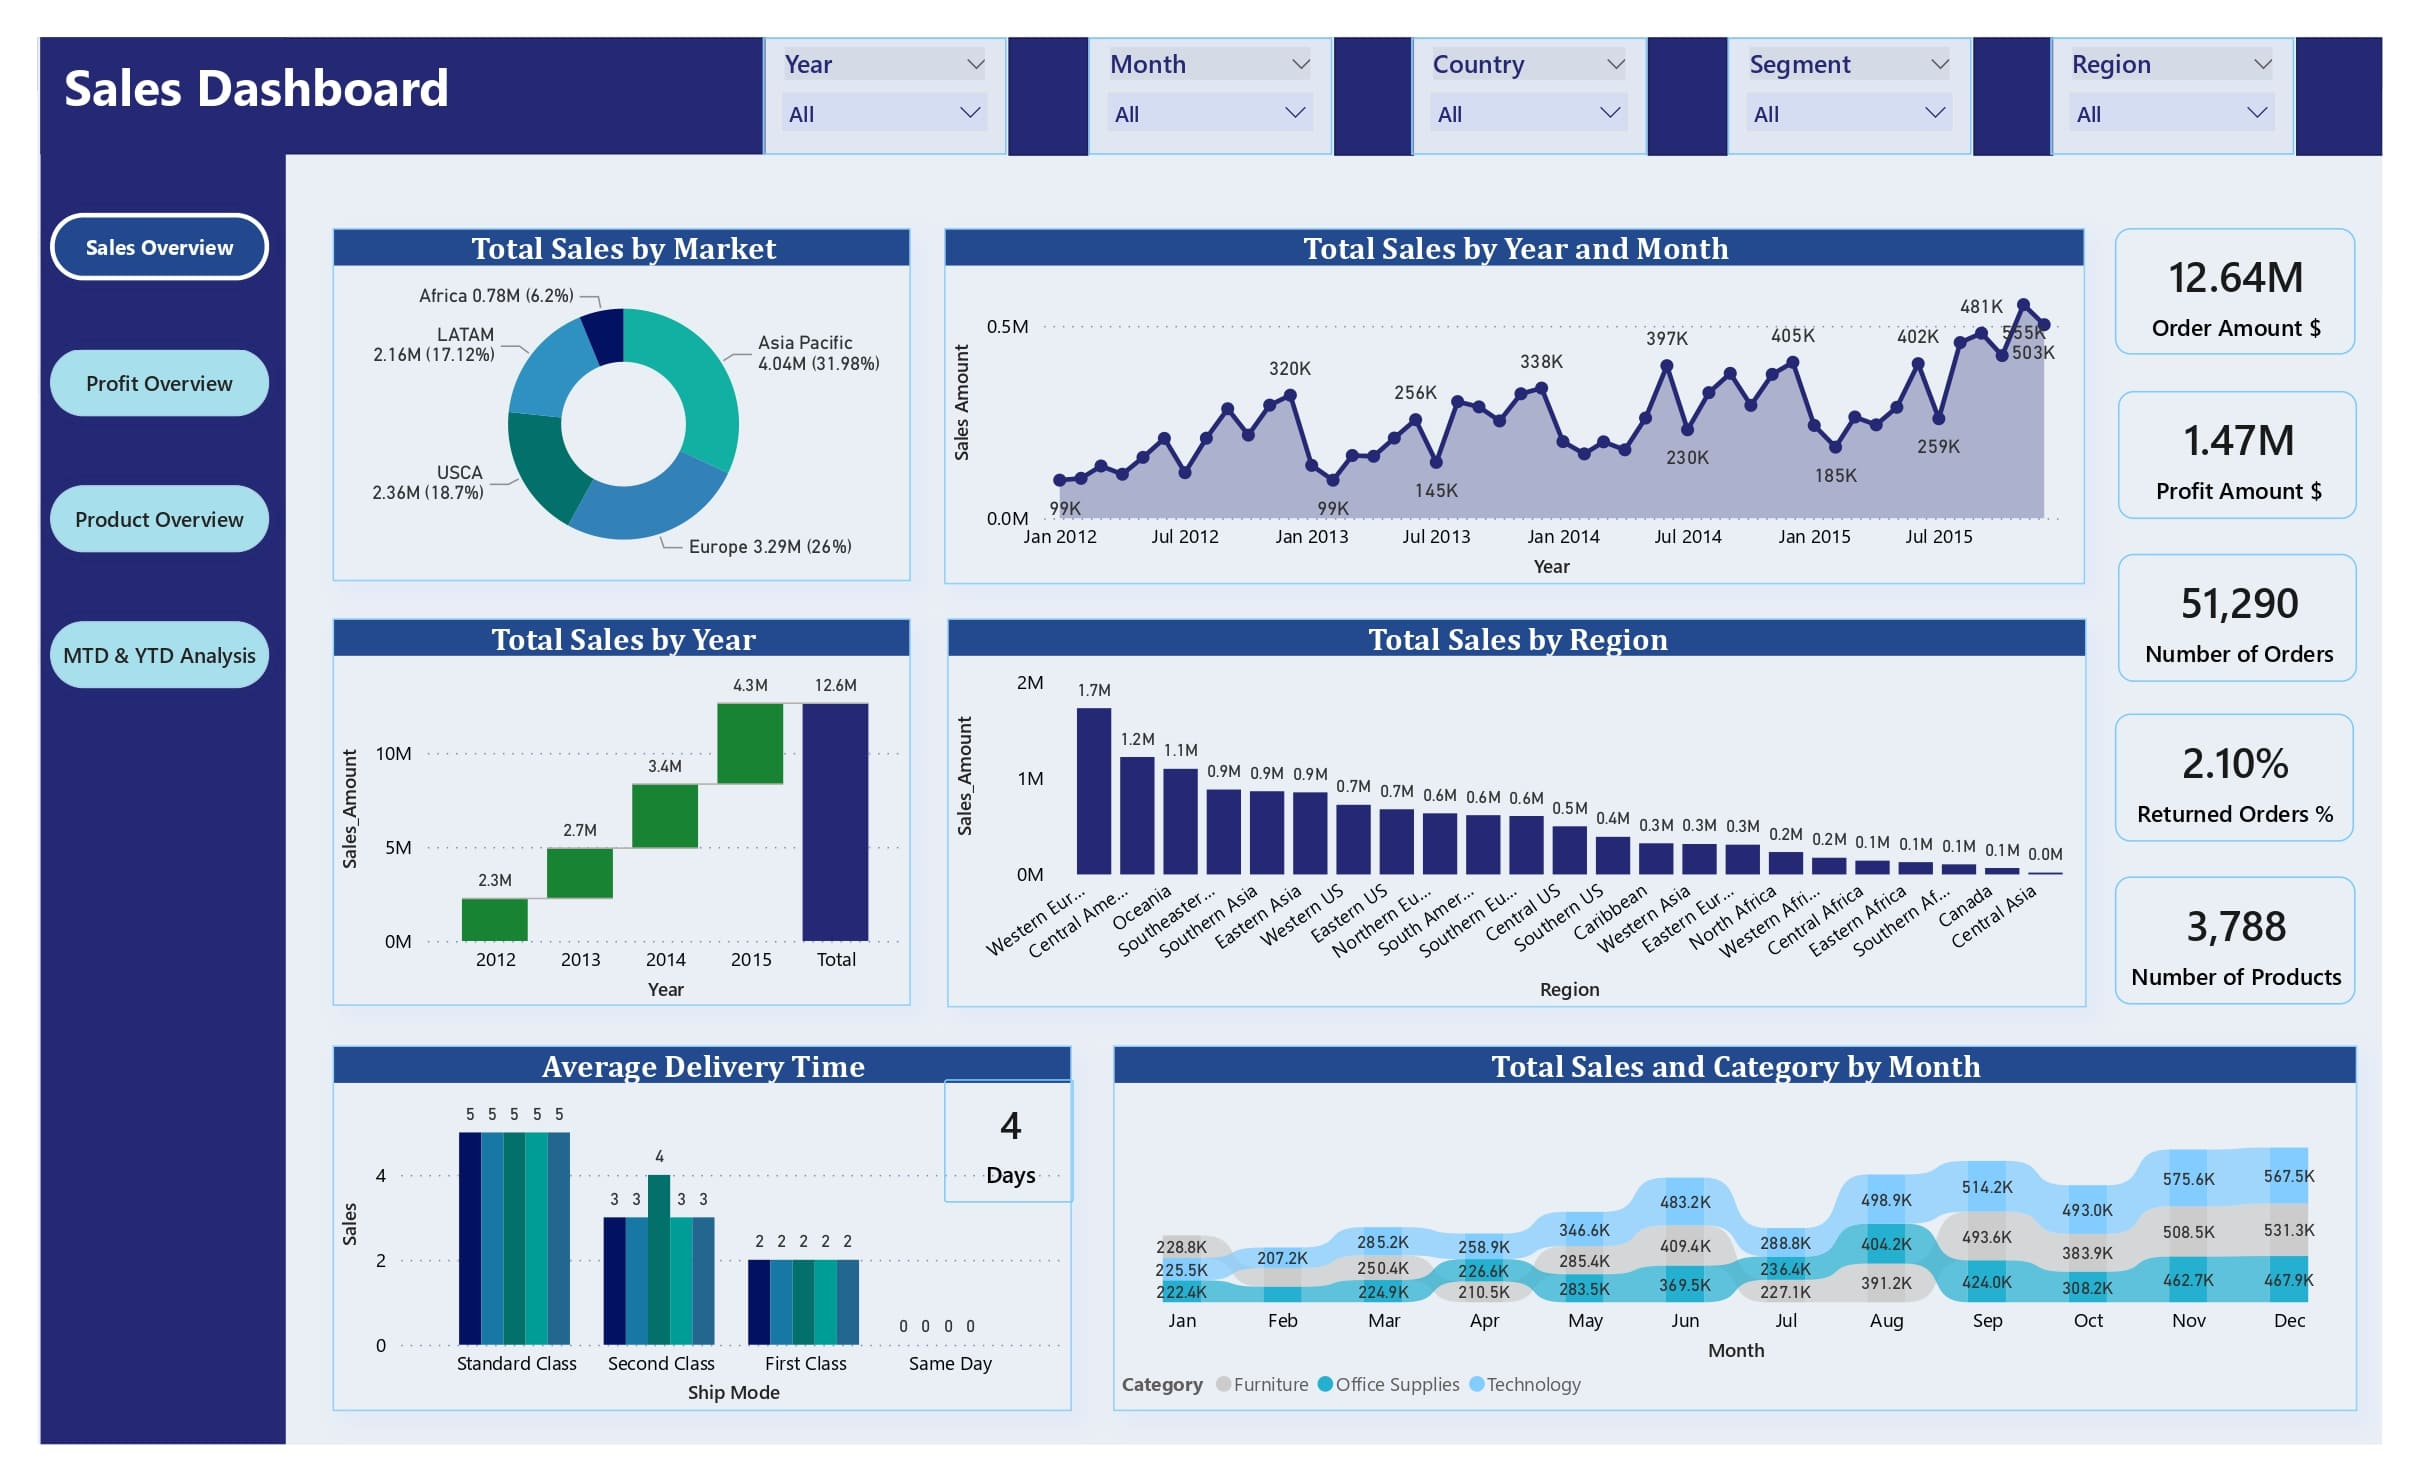

Layout of this report page (visuals, bound fields, positions):
{"tool":"powerbi","page":{"name":"Sales Overview","canvas":[1500,900],"ordinal":0},"visuals":[{"type":"shape","box":[621.3,0,51.1,75.5],"z":0,"group":"g1"},{"type":"slicer","fields":{"Values":["Orders.Country"]},"box":[878.3,0,151.2,74.7],"z":0,"group":"g2"},{"type":"donutChart","title":"Total Sales by Market","fields":{"Y":["Orders.Sales_Amount"],"Category":["Orders.Market"]},"box":[188.9,122.2,370.4,225.9],"z":0},{"type":"shape","box":[1.1,0,463.9,74.7],"z":1000,"group":"g1"},{"type":"slicer","fields":{"Values":["Calendar.Year"]},"box":[463.9,0,156.4,74.7],"z":1000,"group":"g2"},{"type":"clusteredColumnChart","title":"Total Sales by Region","fields":{"Category":["Orders.Region"],"Y":["Orders.Sales_Amount"]},"box":[581.1,371.1,728.9,248.9],"z":1000},{"type":"shape","box":[1.1,0,156.9,900],"z":2000,"group":"g1"},{"type":"slicer","fields":{"Values":["Calendar.Date.Variation.Date Hierarchy.Month"]},"box":[671.1,0,156.4,74.7],"z":2000,"group":"g2"},{"type":"card","fields":{"Values":["Orders.Sales_Amount"]},"box":[1329.1,122.4,153.7,81.3],"z":2000},{"type":"shape","box":[1444.7,0,55.3,75.5],"z":3000,"group":"g1"},{"type":"textbox","box":[11.2,4.8,453.7,87.2],"z":3000,"group":"g2"},{"type":"card","fields":{"Values":["Orders.TotalProfit"]},"box":[1331.9,225.8,153.3,81.7],"z":3000},{"type":"shape","box":[1029.8,0,51.1,75.5],"z":4000,"group":"g1"},{"type":"slicer","fields":{"Values":["Orders.Segment"]},"box":[1080.3,0,156.4,74.7],"z":4000,"group":"g2"},{"type":"card","fields":{"Values":["Orders.% Returned order"]},"box":[1329.9,433.2,153,82.1],"z":4000},{"type":"shape","box":[828.8,0,51.1,75.5],"z":5000,"group":"g1"},{"type":"slicer","fields":{"Values":["Orders.Region"]},"box":[1287.5,0,156.4,74.7],"z":5000,"group":"g2"},{"type":"card","fields":{"Values":["CountNonNull(Orders.Order ID)"]},"box":[1330.2,329.5,153.3,81.7],"z":5000},{"type":"shape","box":[1237.3,0,51.1,75.5],"z":6000,"group":"g1"},{"type":"clusteredColumnChart","title":"Average Delivery Time","fields":{"Category":["Orders.Ship Mode"],"Series":["Orders.Market"],"Y":["Orders.Avg. delivery date"]},"box":[189.4,644.7,473.4,233.5],"z":6000},{"type":"card","fields":{"Values":["Count(Orders.Product Name)"]},"box":[1329.9,537.3,153.7,82.1],"z":7000},{"type":"card","fields":{"Values":["Orders.Avg. delivery date"]},"box":[580.9,666,83,78.7],"z":8000},{"type":"areaChart","title":"Total Sales by Year and Month","fields":{"Y":["Orders.Sales_Amount"],"Category":["Calendar.Date.Variation.Date Hierarchy.Year","Calendar.Date.Variation.Date Hierarchy.Month"]},"box":[580.9,121.3,729.8,227.7],"z":9000},{"type":"waterfallChart","title":"Total Sales by Year","fields":{"Category":["Calendar.Year"],"Y":["Orders.Sales_Amount"]},"box":[188.7,371.1,370.1,248.5],"z":10000},{"type":"ribbonChart","title":"Total Sales and Category by Month","fields":{"Y":["Orders.Sales_Amount"],"Category":["Calendar.Month"],"Series":["Orders.Category"]},"box":[688.1,644,795.5,234.3],"z":12000},{"type":"group","id":"g1","title":"Box","box":[1.1,0,1498.9,900],"z":13000},{"type":"pageNavigator","box":[0,103.9,156.9,323.5],"z":14000},{"type":"group","id":"g2","title":"Group 1","box":[11.2,0,1432.7,92],"z":15000}]}

Visuals, with their boxes on the page's 1500x900 design canvas (x1, y1, x2, y2). These are canvas units, not pixel positions in the 2420x1482 screenshot, which may show the page scaled, cropped or inside an application window:
shape: Rect(621, 0, 672, 76)
slicer - Orders.Country: Rect(878, 0, 1030, 75)
"Total Sales by Market" donutChart: Rect(189, 122, 559, 348)
shape: Rect(1, 0, 465, 75)
slicer - Calendar.Year: Rect(464, 0, 620, 75)
"Total Sales by Region" clusteredColumnChart: Rect(581, 371, 1310, 620)
shape: Rect(1, 0, 158, 900)
slicer - Calendar.Date.Variation.Date Hierarchy.Month: Rect(671, 0, 828, 75)
card - Orders.Sales_Amount: Rect(1329, 122, 1483, 204)
shape: Rect(1445, 0, 1500, 76)
textbox: Rect(11, 5, 465, 92)
card - Orders.TotalProfit: Rect(1332, 226, 1485, 308)
shape: Rect(1030, 0, 1081, 76)
slicer - Orders.Segment: Rect(1080, 0, 1237, 75)
card - Orders.% Returned order: Rect(1330, 433, 1483, 515)
shape: Rect(829, 0, 880, 76)
slicer - Orders.Region: Rect(1288, 0, 1444, 75)
card - CountNonNull(Orders.Order ID): Rect(1330, 330, 1484, 411)
shape: Rect(1237, 0, 1288, 76)
"Average Delivery Time" clusteredColumnChart: Rect(189, 645, 663, 878)
card - Count(Orders.Product Name): Rect(1330, 537, 1484, 619)
card - Orders.Avg. delivery date: Rect(581, 666, 664, 745)
"Total Sales by Year and Month" areaChart: Rect(581, 121, 1311, 349)
"Total Sales by Year" waterfallChart: Rect(189, 371, 559, 620)
"Total Sales and Category by Month" ribbonChart: Rect(688, 644, 1484, 878)
"Box" group: Rect(1, 0, 1500, 900)
pageNavigator: Rect(0, 104, 157, 427)
"Group 1" group: Rect(11, 0, 1444, 92)
